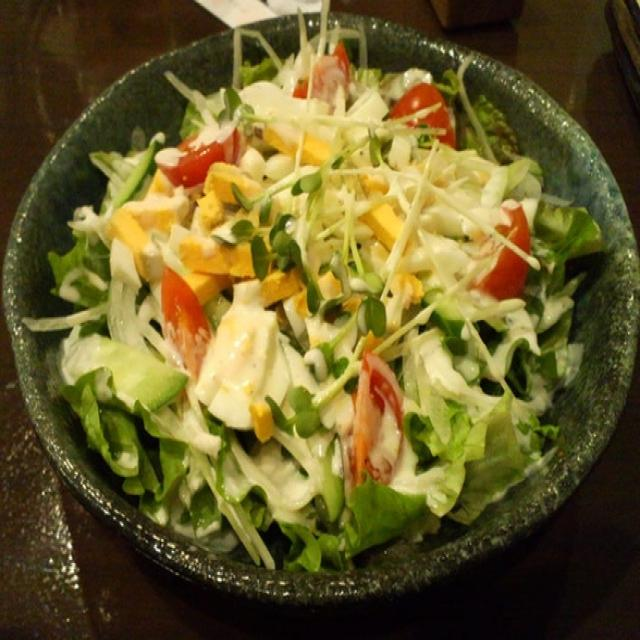蔬菜料理: (13, 11, 624, 605)
